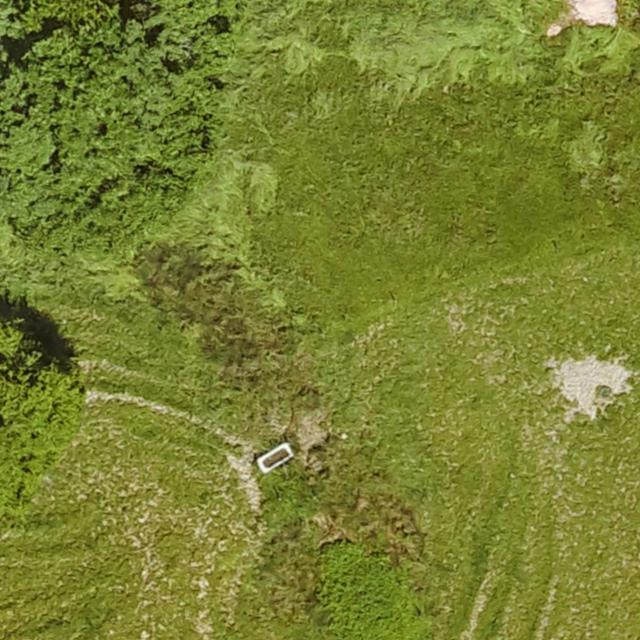tree: (0, 0, 230, 248), (0, 315, 84, 511)
